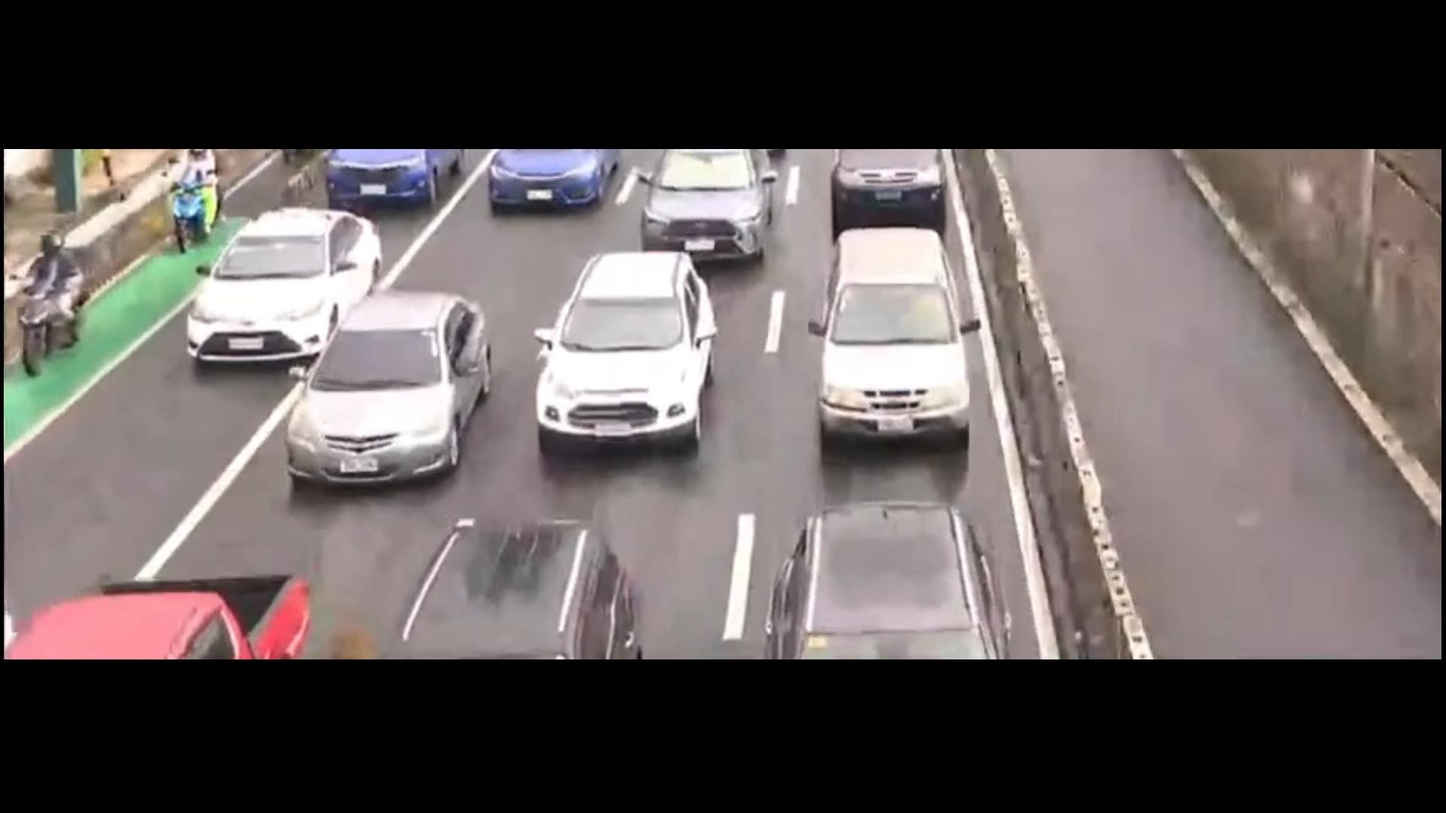Motorcycle: (13, 228, 96, 378), (166, 154, 226, 245)
SUV: (749, 501, 1017, 662), (518, 247, 714, 455), (810, 222, 975, 469), (390, 510, 648, 657)
Sedan: (284, 294, 491, 491), (190, 211, 375, 365), (636, 151, 776, 273)
